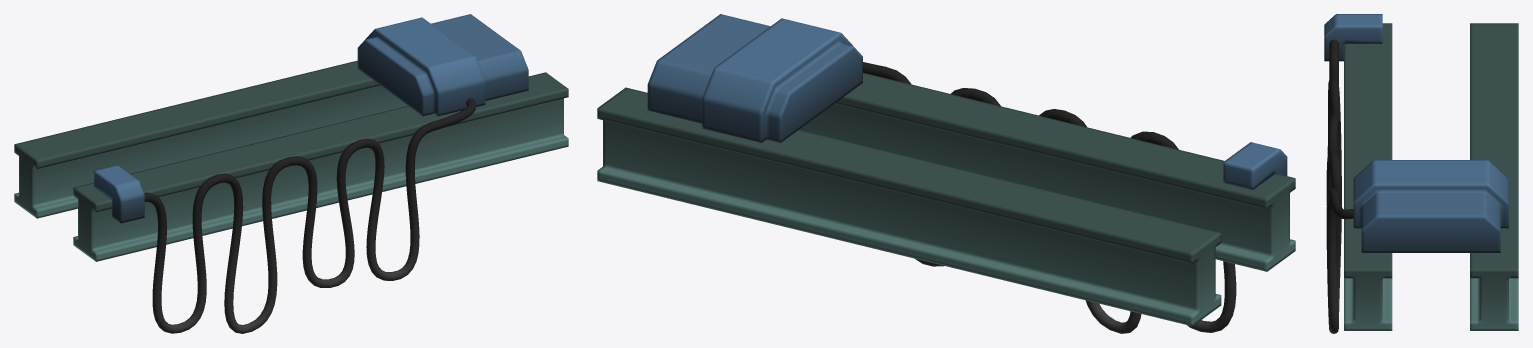
The model's file is SM_robo_rail_alt.fbx.
3 views of the same model, side by side, from view 1: azimuth 30°, elevation 25°; view 2: azimuth 150°, elevation 25°; view 3: azimuth 270°, elevation 25° (orthographic). The views are drawn at different scales.
Parts seen in each view (by area): view 1: SM_robo_rail_alt, BezierCurve, Cube, Plane; view 2: SM_robo_rail_alt, Cube, BezierCurve, Plane; view 3: SM_robo_rail_alt, Cube, BezierCurve, Plane.
Boxes of the visible parts, left/top/right/bottom form: SM_robo_rail_alt: left=14, top=60, right=568, bottom=261; BezierCurve: left=144, top=98, right=475, bottom=333; Cube: left=357, top=14, right=528, bottom=116; Plane: left=93, top=165, right=144, bottom=223; SM_robo_rail_alt: left=597, top=72, right=1295, bottom=326; Cube: left=647, top=14, right=862, bottom=142; BezierCurve: left=863, top=62, right=1236, bottom=333; Plane: left=1223, top=142, right=1287, bottom=189; SM_robo_rail_alt: left=1344, top=23, right=1518, bottom=330; Cube: left=1353, top=160, right=1508, bottom=252; BezierCurve: left=1326, top=39, right=1353, bottom=333; Plane: left=1324, top=14, right=1382, bottom=61.
Bounding box in the file's own units: 600 × 245 × 200.
